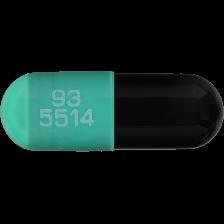0093-5514: (0, 0, 224, 224)
